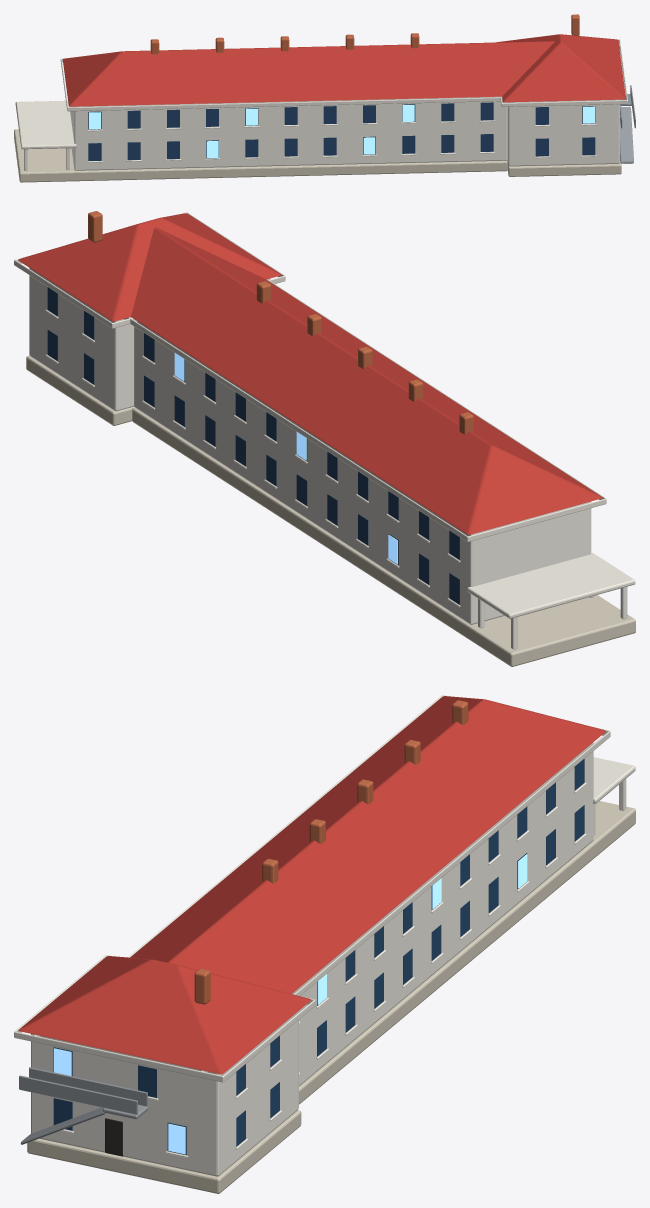
The model's file is 1008-general-kennedy.optimized.glb.
3 renders of one model, top to bottom at view 1: azimuth 30°, elevation 25°; view 2: azimuth 150°, elevation 25°; view 3: azimuth 270°, elevation 25°, orthographic. The views are drawn at different scales.
Parts seen in each view (by area): view 1: grp_Toy_red, grp_Toy_white, grp_Toy_stone, grp_Toy_trim, grp_Toy_glass, grp_Toy_glass_Glow, grp_Toy_brick, grp_Toy_steel; view 2: grp_Toy_red, grp_Toy_white, grp_Toy_stone, grp_Toy_trim, grp_Toy_glass, grp_Toy_brick, grp_Toy_glass_Glow; view 3: grp_Toy_red, grp_Toy_white, grp_Toy_stone, grp_Toy_trim, grp_Toy_glass, grp_Toy_steel, grp_Toy_brick, grp_Toy_glass_Glow.
Boxes of the visible parts, box(x1,y1,x2,y2) form: grp_Toy_red: box(62, 34, 625, 106); grp_Toy_white: box(18, 96, 619, 170); grp_Toy_stone: box(14, 129, 621, 182); grp_Toy_trim: box(15, 39, 627, 162); grp_Toy_glass: box(88, 102, 595, 160); grp_Toy_glass_Glow: box(89, 105, 594, 157); grp_Toy_brick: box(150, 14, 579, 54); grp_Toy_steel: box(620, 85, 635, 163); grp_Toy_red: box(18, 213, 602, 534); grp_Toy_white: box(29, 268, 627, 649); grp_Toy_stone: box(26, 355, 635, 666); grp_Toy_trim: box(14, 212, 635, 618); grp_Toy_glass: box(47, 287, 459, 604); grp_Toy_brick: box(88, 211, 473, 434); grp_Toy_glass_Glow: box(174, 353, 397, 564); grp_Toy_red: box(18, 696, 605, 1074); grp_Toy_white: box(31, 742, 626, 1176); grp_Toy_stone: box(27, 801, 635, 1193); grp_Toy_trim: box(14, 695, 635, 1157); grp_Toy_glass: box(53, 759, 584, 1154); grp_Toy_steel: box(19, 1067, 148, 1144); grp_Toy_brick: box(194, 700, 468, 1004); grp_Toy_glass_Glow: box(54, 854, 527, 1154).
Size of the model in its own units: 55.13 by 11.9 by 35.47.
